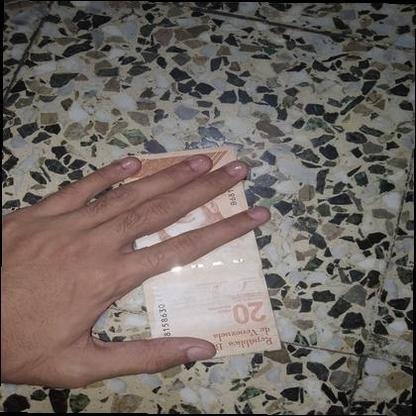twenty-front-vef: (121, 144, 282, 360)
